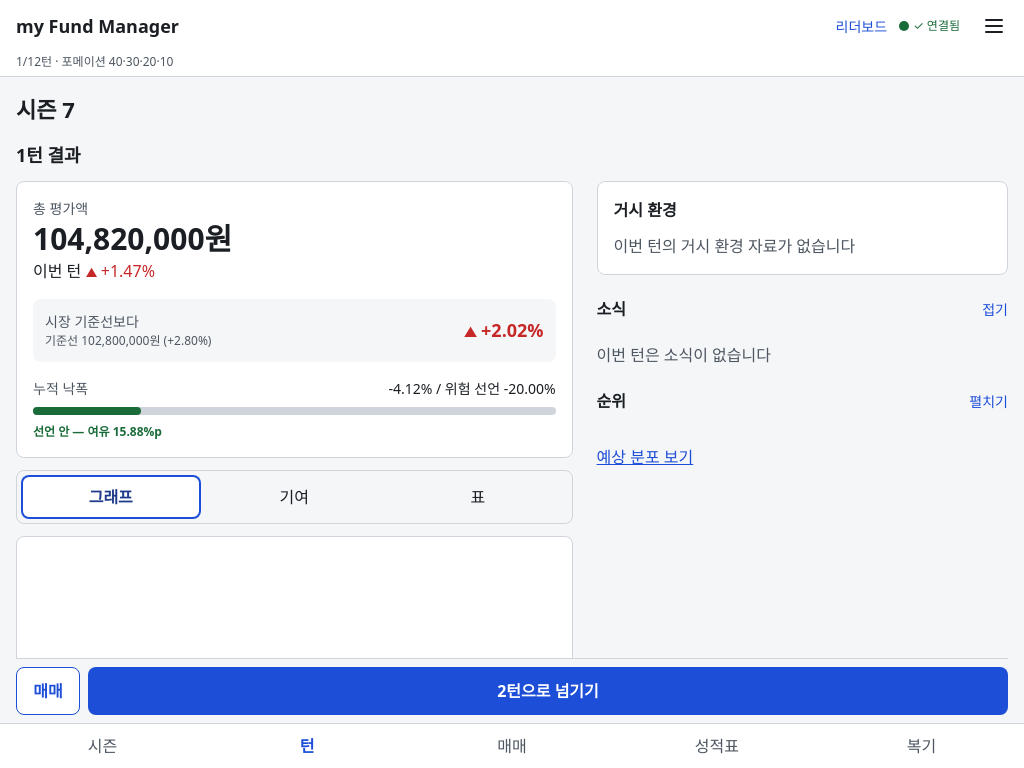
Scenario: confirm and finish (A3) › shows "미시작" from the server flag for an early abandon
Expected: the text "1/12턴 · 포메이션 40·30·20·10" is shown, [16,53,173,70]
Click the button named "메뉴" at (994,26), box [972,4,1016,48]
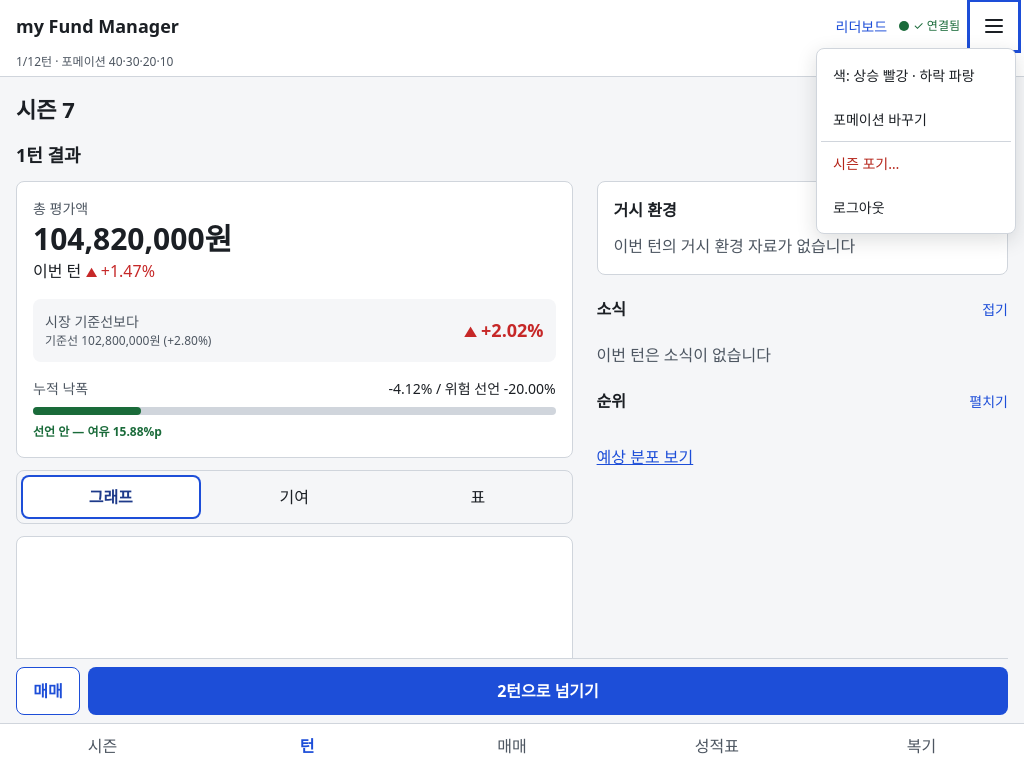
Click the button "시즌 포기…" at (916,163), box [821,141,1011,185]
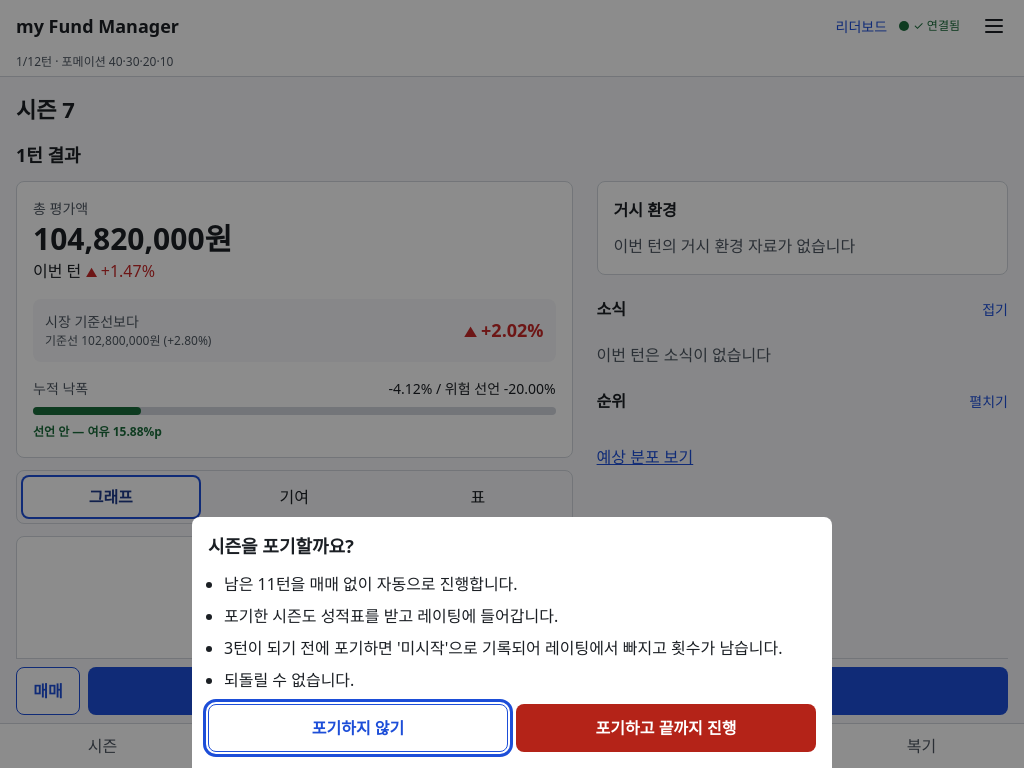
Click the button "포기하고 끝까지 진행" at (666,728), box [516,704,816,752]
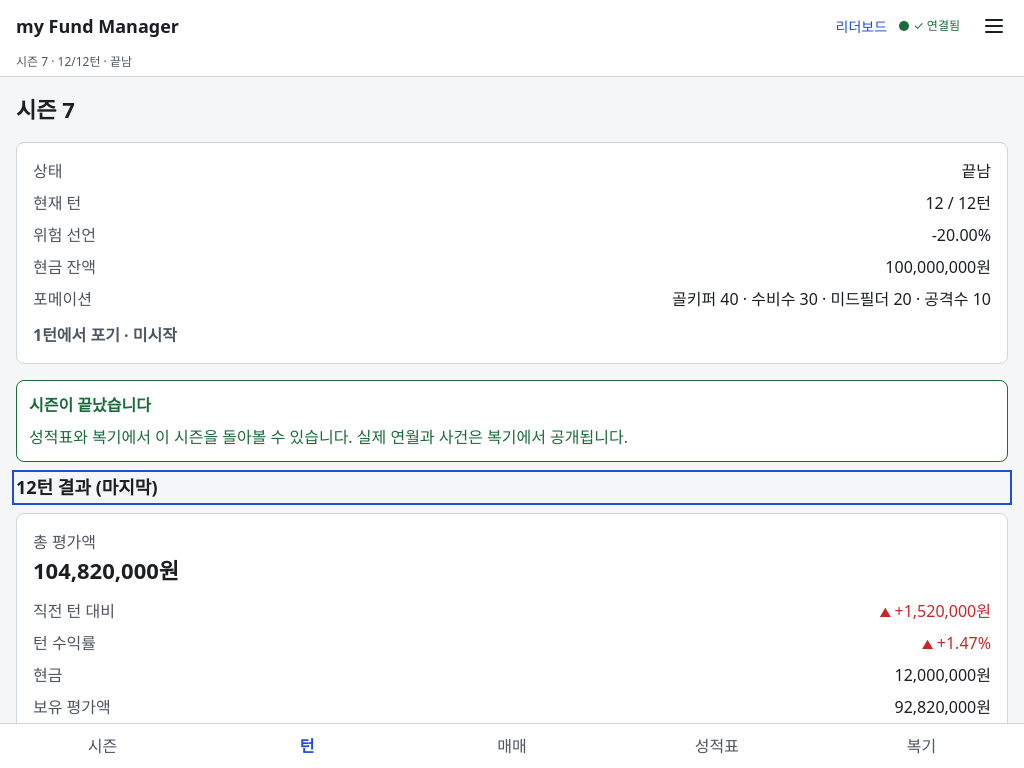
Expected: the text "시즌이 끝났습니다" is shown, [29,393,151,417]
